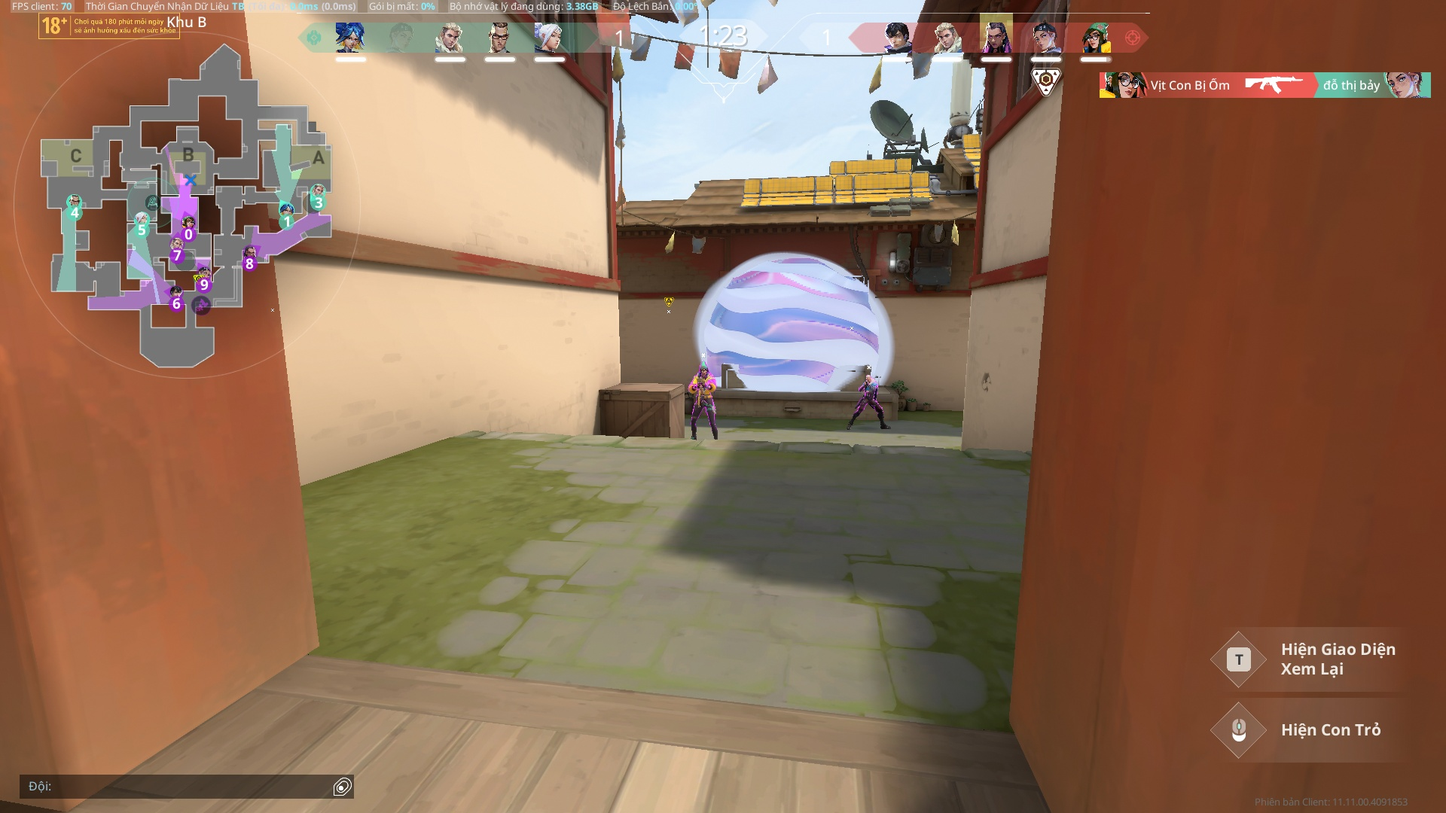body: (690, 373, 716, 396), (860, 379, 878, 395)
head: (697, 365, 709, 375), (865, 375, 872, 382)
